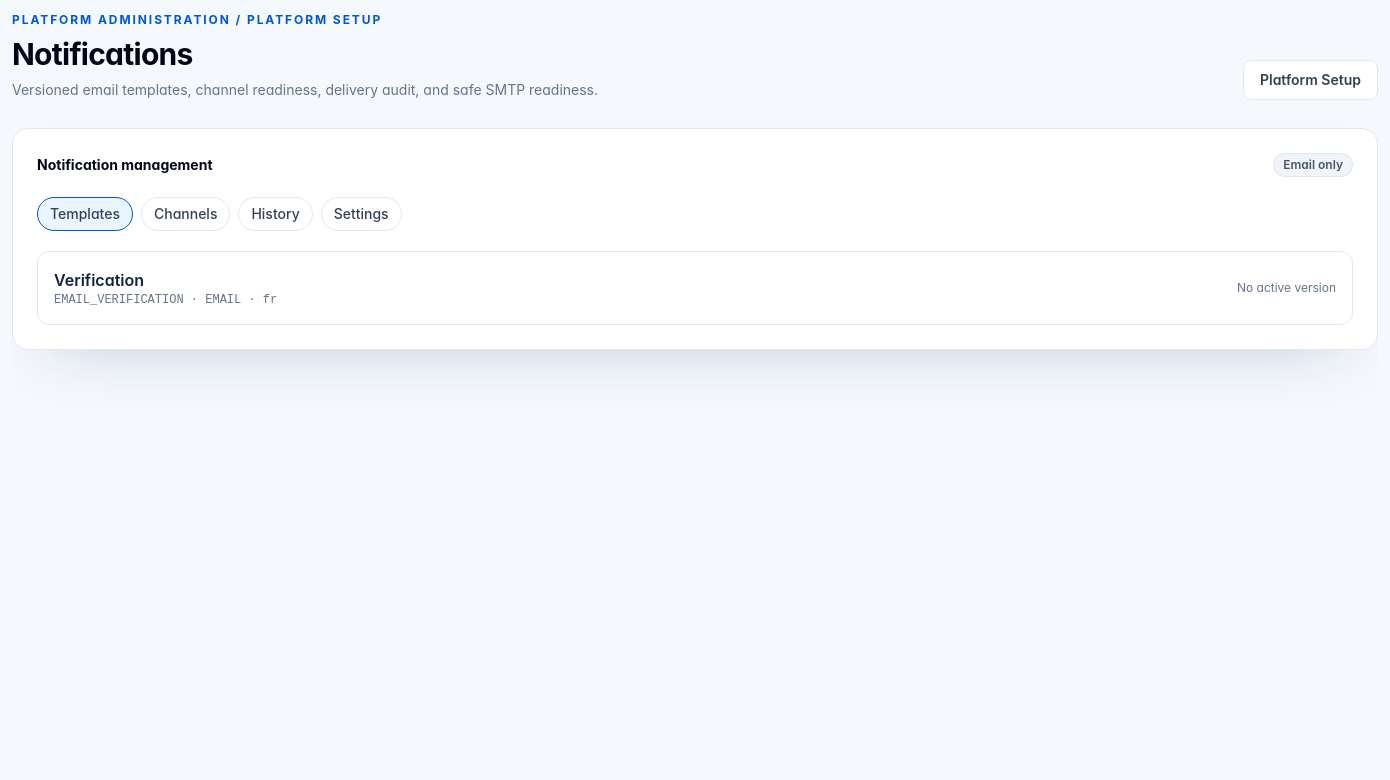
Test case: Notification management setup › disables verification mutations for an unsupported locale
Click the button that starts with "Verification".
click(99, 280)  # box left=37, top=251, right=1353, bottom=325
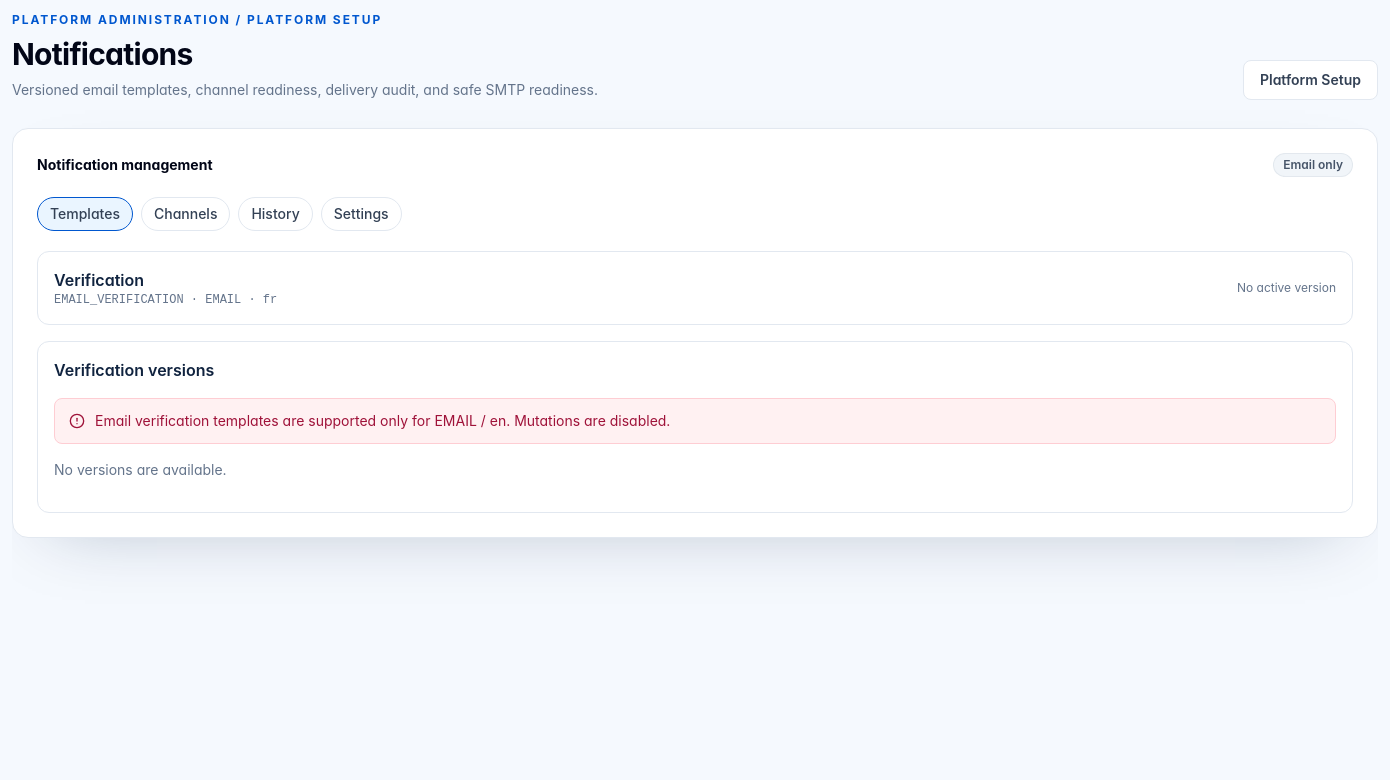
Expected: the text "supported only for EMAIL / en" is shown, left=95, top=412, right=670, bottom=429
